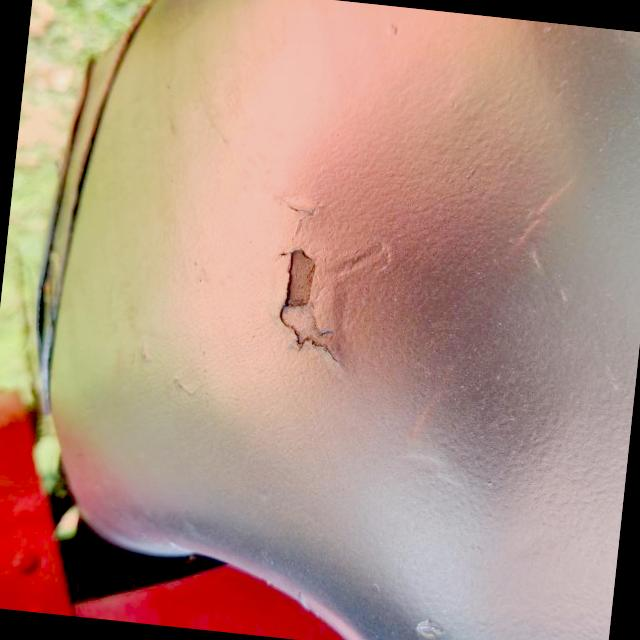paint-off: (247, 226, 386, 392)
